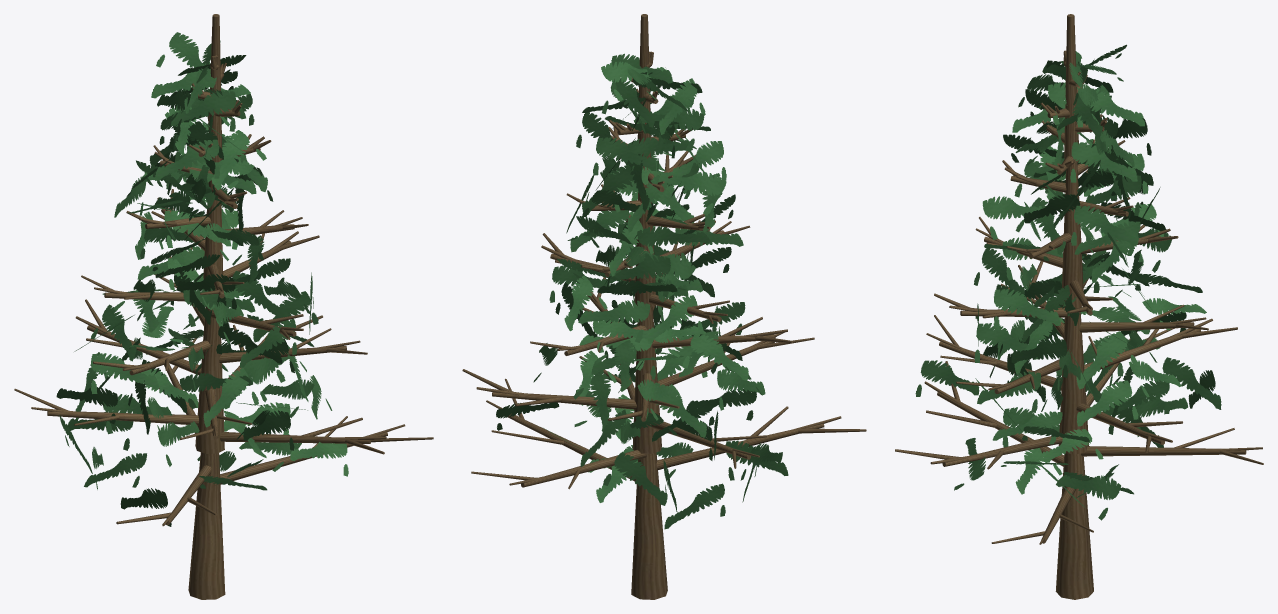
3 views of the same model, side by side, from view 1: azimuth 30°, elevation 25°; view 2: azimuth 150°, elevation 25°; view 3: azimuth 270°, elevation 25° (orthographic).
Visible parts, largest first — view 1: pine-needle, pine-bark; view 2: pine-needle, pine-bark; view 3: pine-needle, pine-bark.
Boxes of the visible parts, x1,y1,x2,y2 form: pine-needle: (56,32,348,526); pine-bark: (14,14,433,599); pine-needle: (496,53,788,529); pine-bark: (462,14,866,599); pine-needle: (915,44,1221,520); pine-bark: (895,14,1263,599).
Size of the model in its own units: 6.17 by 10.01 by 5.77.
2 materials, 2 textured.
